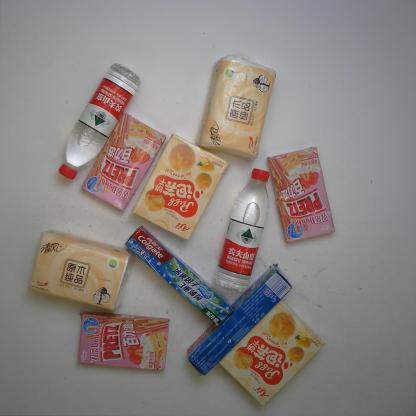Dessert: (218, 299, 326, 407), (132, 133, 232, 243), (80, 111, 167, 214), (266, 146, 337, 244), (77, 310, 171, 372)
Drink: (57, 62, 142, 183), (213, 166, 271, 296)
Personal Hygiene: (186, 262, 293, 376), (124, 224, 235, 327)
Tissue: (194, 53, 278, 164), (27, 228, 134, 314)
